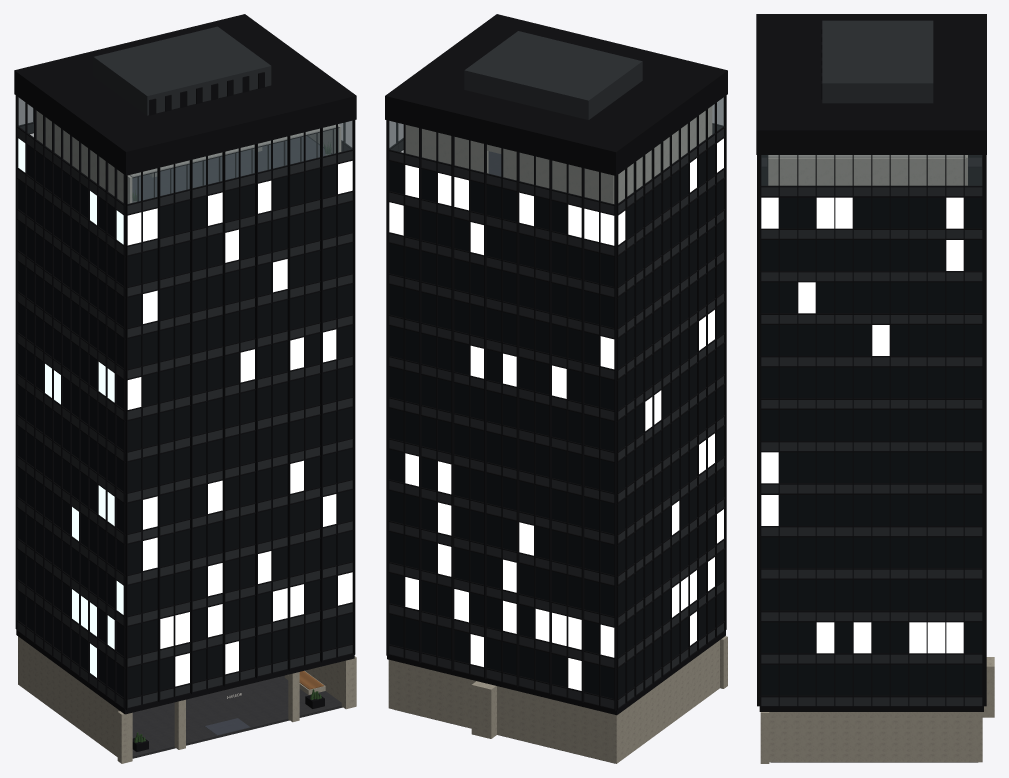
The model's file is harbor_shaft_cut.glb.
3 views of the same model, side by side, from view 1: azimuth 30°, elevation 25°; view 2: azimuth 150°, elevation 25°; view 3: azimuth 270°, elevation 25° (orthographic). The views are drawn at different scales.
Parts seen in each view (by area): view 1: Harbor_Tower_ShaftCut, Lobby_Interior_ShaftCut, Office_F14_Shell_ShaftCut; view 2: Harbor_Tower_ShaftCut, Office_F14_Shell_ShaftCut; view 3: Harbor_Tower_ShaftCut, Office_F14_Shell_ShaftCut.
Part boxes in pixels (box(x1,y1,x2,y2)): Harbor_Tower_ShaftCut: box(14, 14, 356, 763); Lobby_Interior_ShaftCut: box(132, 670, 342, 758); Office_F14_Shell_ShaftCut: box(36, 111, 341, 203); Harbor_Tower_ShaftCut: box(385, 14, 727, 763); Office_F14_Shell_ShaftCut: box(405, 106, 712, 203); Harbor_Tower_ShaftCut: box(756, 14, 994, 763); Office_F14_Shell_ShaftCut: box(767, 155, 967, 185).
Size of the model in its own units: 22.7 by 58.6 by 19.3.
33 materials, 9 textured.
